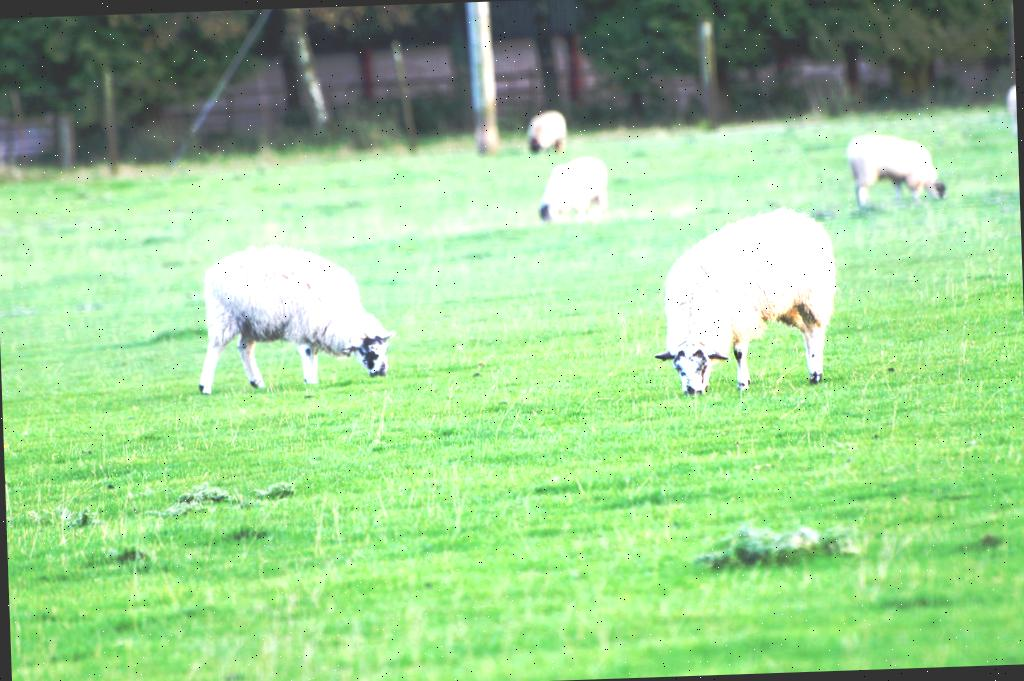Sheep: (647, 203, 842, 397), (196, 242, 400, 396), (846, 134, 944, 200), (536, 157, 606, 222), (528, 112, 565, 152)
